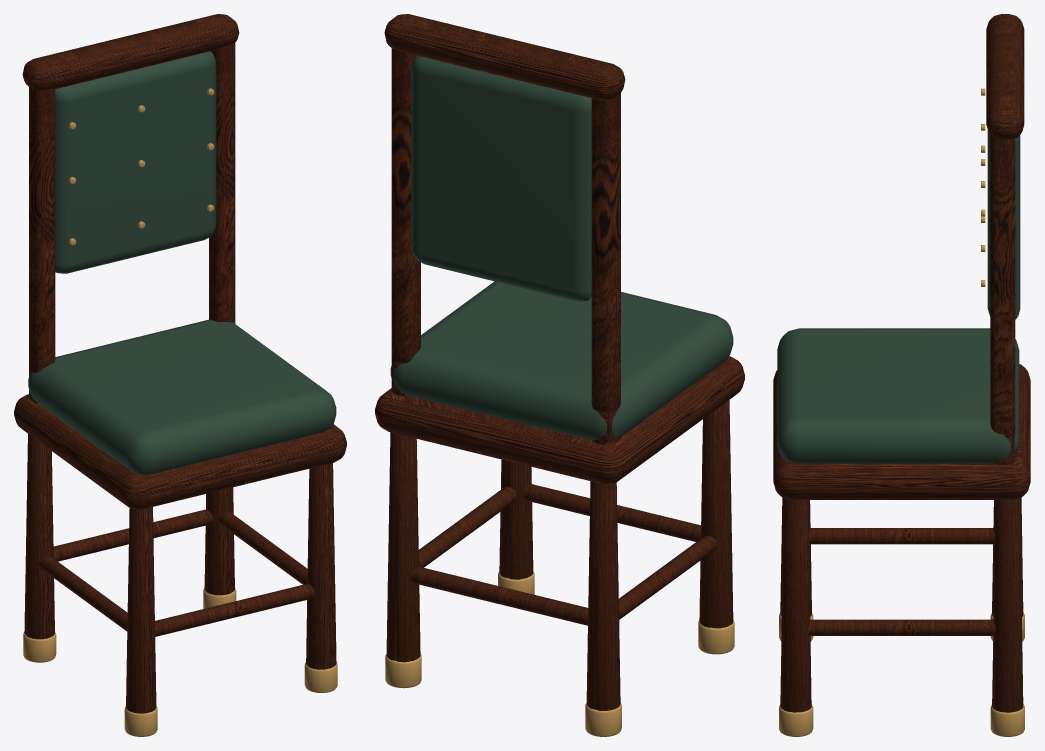
File: pub-chair.glb
3 renders of one model, left to right at view 1: azimuth 30°, elevation 25°; view 2: azimuth 150°, elevation 25°; view 3: azimuth 270°, elevation 25°, orthographic. The views are drawn at different scales.
Parts seen in each view (by area): view 1: pub-chair; view 2: pub-chair; view 3: pub-chair.
Boxes of the visible parts, bbox=[...] form: pub-chair: bbox=[14, 14, 346, 736]; pub-chair: bbox=[375, 14, 744, 736]; pub-chair: bbox=[773, 14, 1030, 736].
Size of the model in its own units: 1.06 by 2.73 by 1.02.
3 materials, 1 textured.
